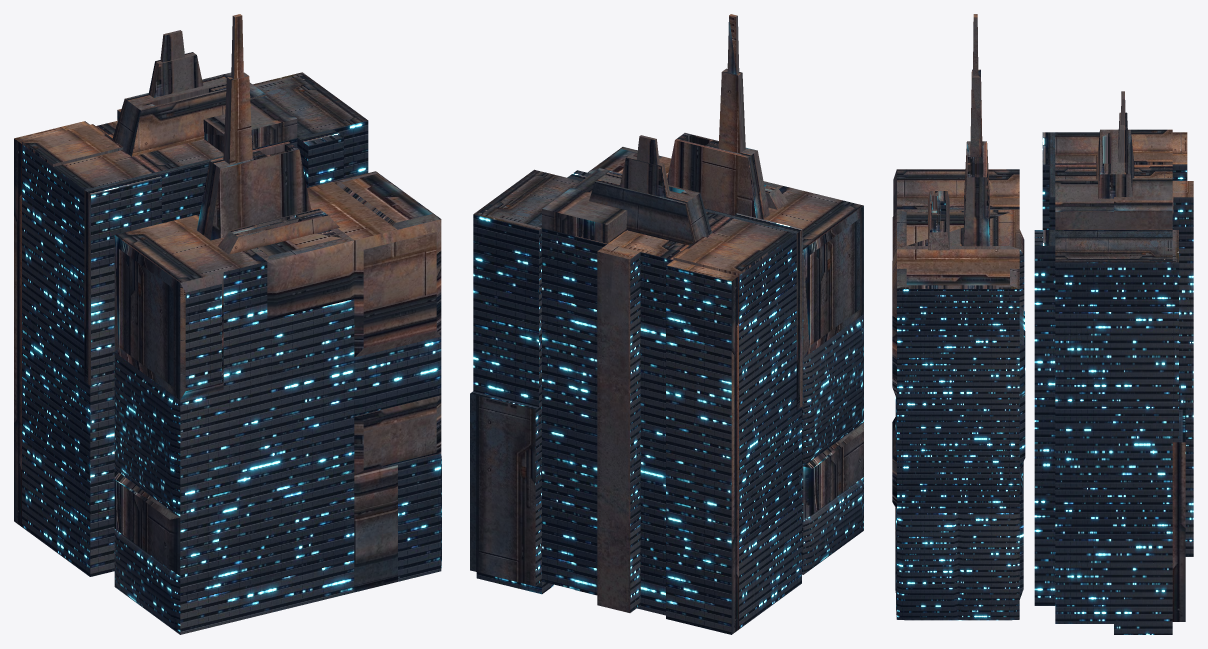
Rendered from 2026-residential-building-2.glb.
3 views of the same model, side by side, from view 1: azimuth 30°, elevation 25°; view 2: azimuth 150°, elevation 25°; view 3: azimuth 270°, elevation 25° (orthographic). The views are drawn at different scales.
Visible parts, largest first — view 1: 2026-residential-building-2; view 2: 2026-residential-building-2; view 3: 2026-residential-building-2.
Boxes of the visible parts, box(x1,y1,x2,y2) form: 2026-residential-building-2: box(14, 14, 441, 634); 2026-residential-building-2: box(470, 14, 863, 634); 2026-residential-building-2: box(892, 14, 1193, 634).
Size of the model in its own units: 61.44 by 119 by 60.11.
1 material, 1 textured.
